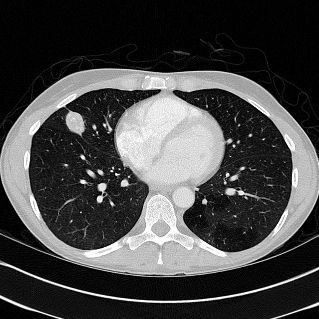nodule: (63, 109, 87, 133)
